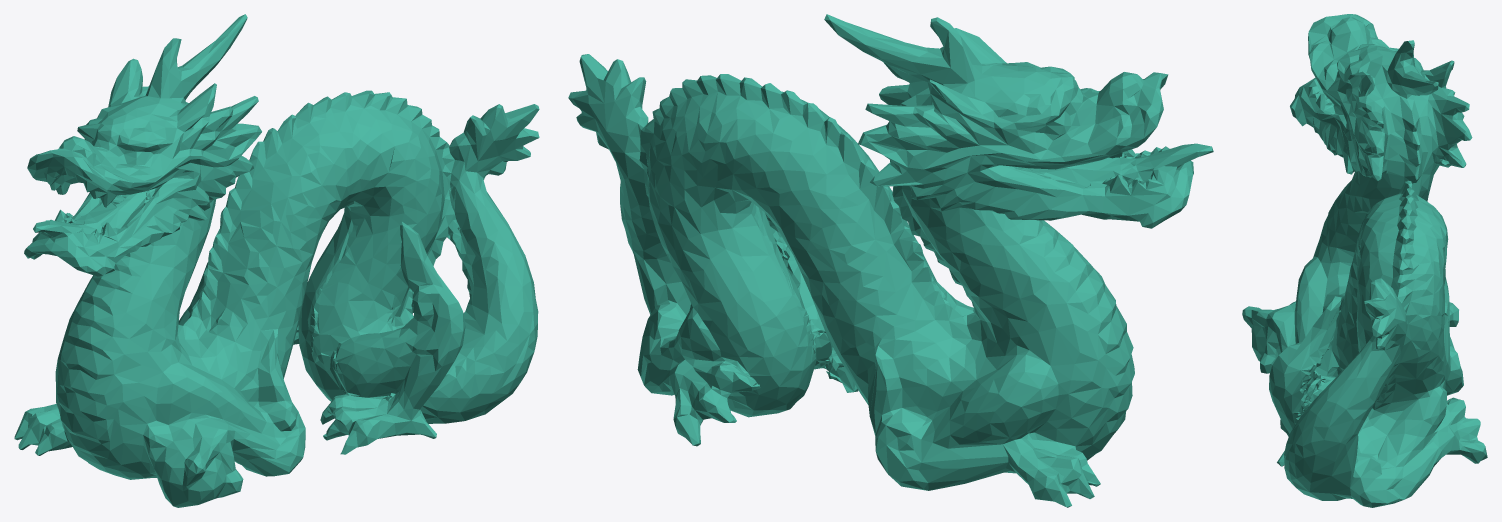
File: dragon.obj
The picture shows the model from 3 angles, left to right: view 1: azimuth 30°, elevation 25°; view 2: azimuth 150°, elevation 25°; view 3: azimuth 270°, elevation 25°; orthographic projection. The views are drawn at different scales.
Parts seen in each view (by area): view 1: default; view 2: default; view 3: default.
Boxes of the visible parts, x1,y1,x2,y2 form: default: (14, 14, 539, 507); default: (568, 14, 1213, 507); default: (1242, 14, 1487, 507).
Size of the model in its own units: 2.82 by 1.98 by 1.26.
